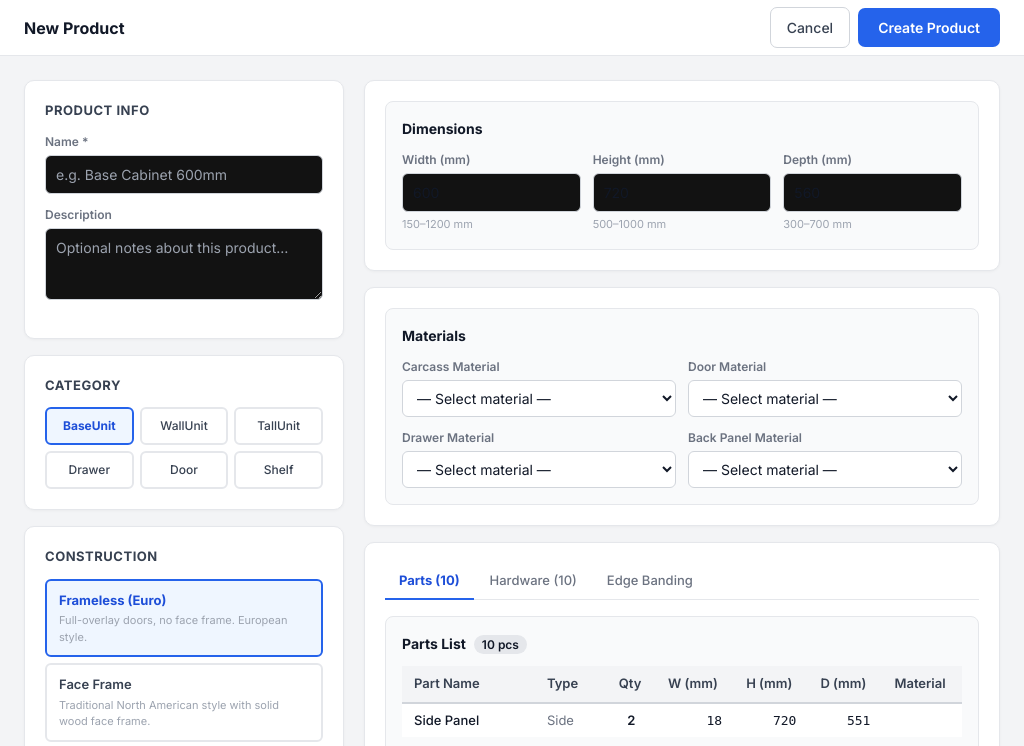
ProductEditor — form interactions › switching to hardware tab shows hardware panel
Click the tab with test id "tab-hardware". click: (533, 581)
box: [476,562,591,600]
(page scrolled)
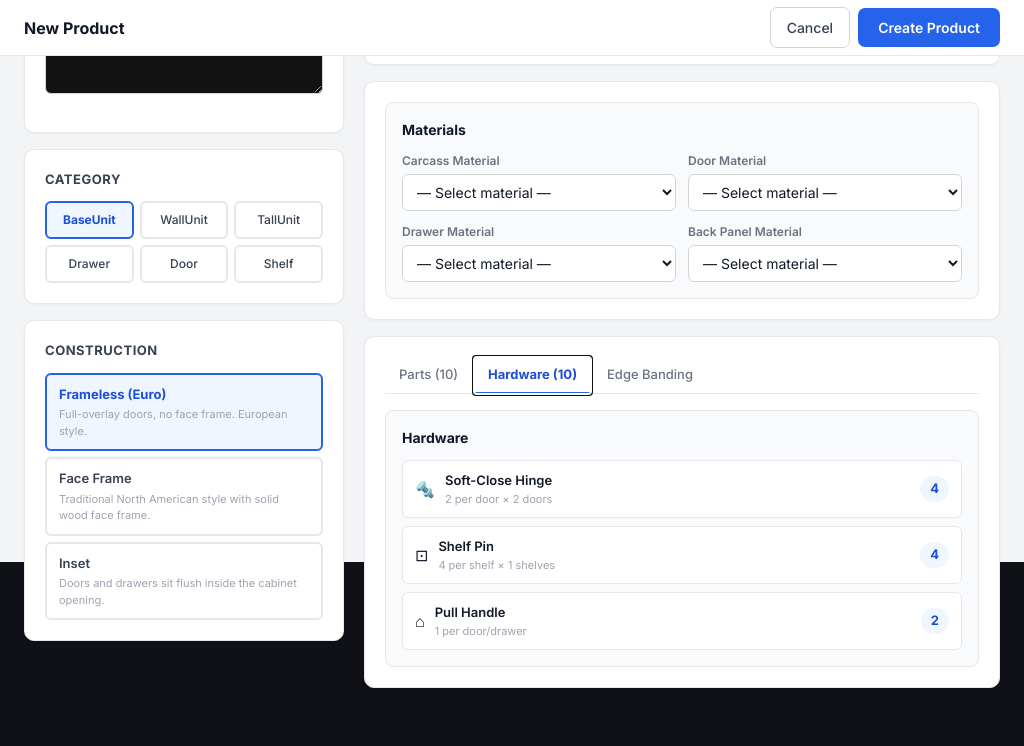
Expected: the element with test id "hardware-panel" is shown, [385,410,979,667]
